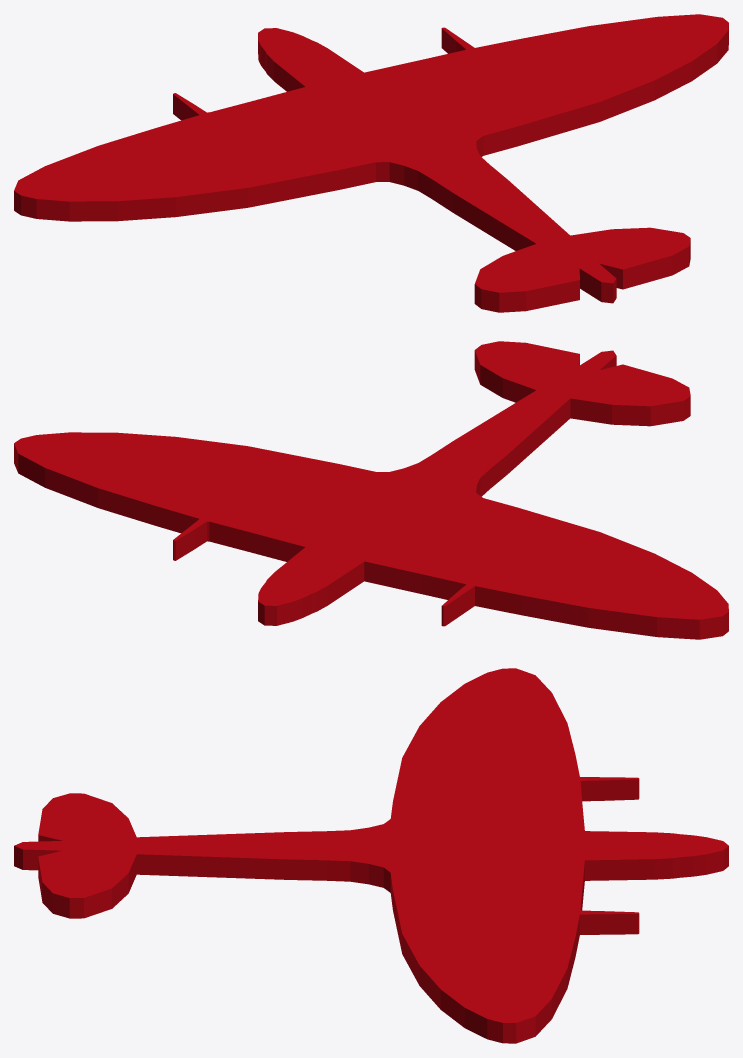
The model's file is PrototypeDeutsche.fbx.
The picture shows the model from 3 angles, top to bottom: view 1: azimuth 30°, elevation 25°; view 2: azimuth 150°, elevation 25°; view 3: azimuth 270°, elevation 25°; orthographic projection. The views are drawn at different scales.
Visible parts, largest first — view 1: Vert; view 2: Vert; view 3: Vert.
Boxes of the visible parts, bbox=[...] form: Vert: bbox=[14, 14, 728, 312]; Vert: bbox=[14, 341, 728, 639]; Vert: bbox=[14, 668, 728, 1043].
Bounding box in the file's own units: 494 × 13.3 × 421.
